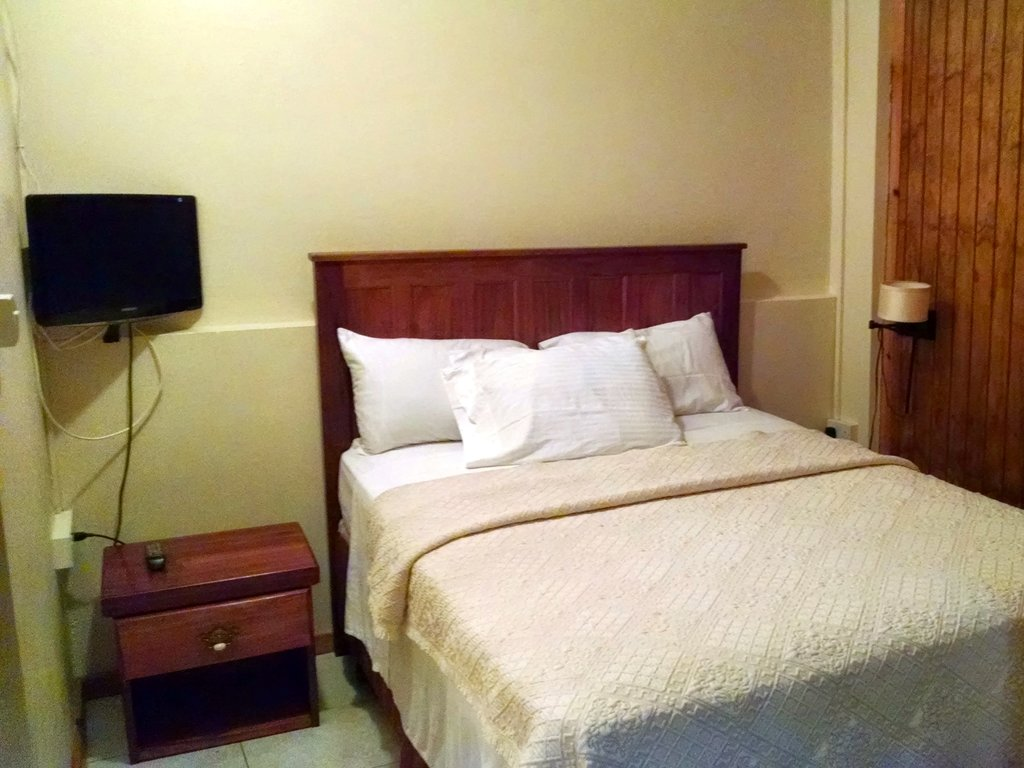cabinet door: (126, 599, 317, 658)
handle: (200, 627, 234, 659)
